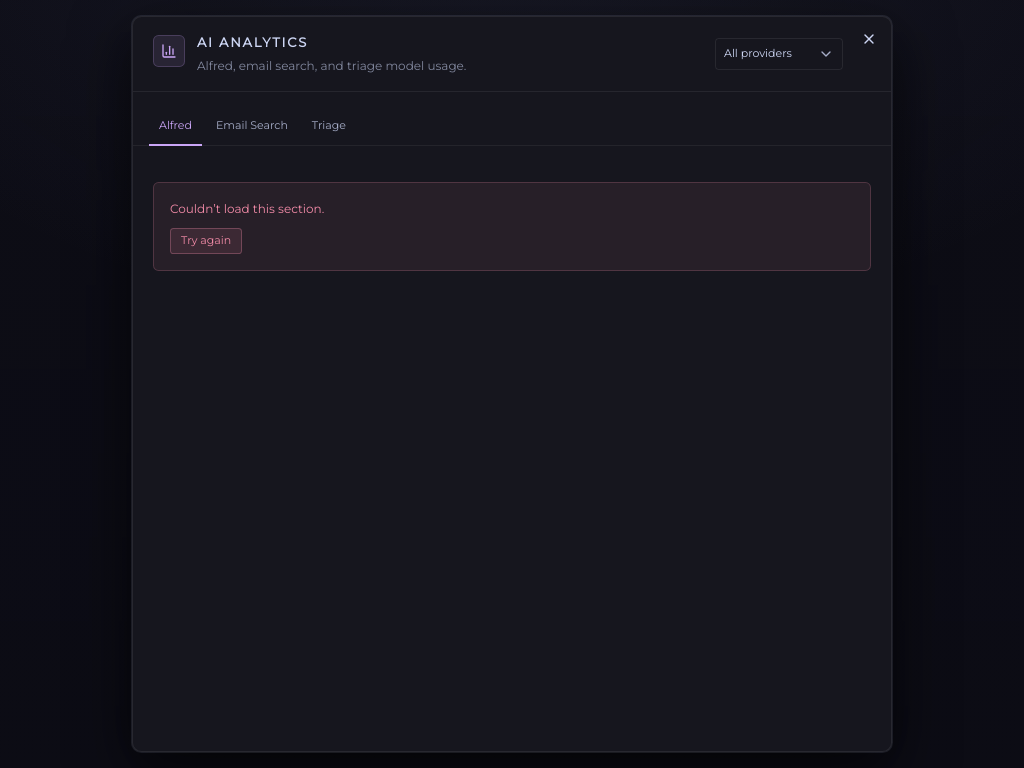
Scenario: recovers the failing section when Try again succeeds
Expected: the text "Couldn’t load this section." is shown, [170,201,324,216]
What coordinates should you click on to do the following:
click the button "Try again"
I would click on:
 (206, 241)
Its box is [170,228,242,254].
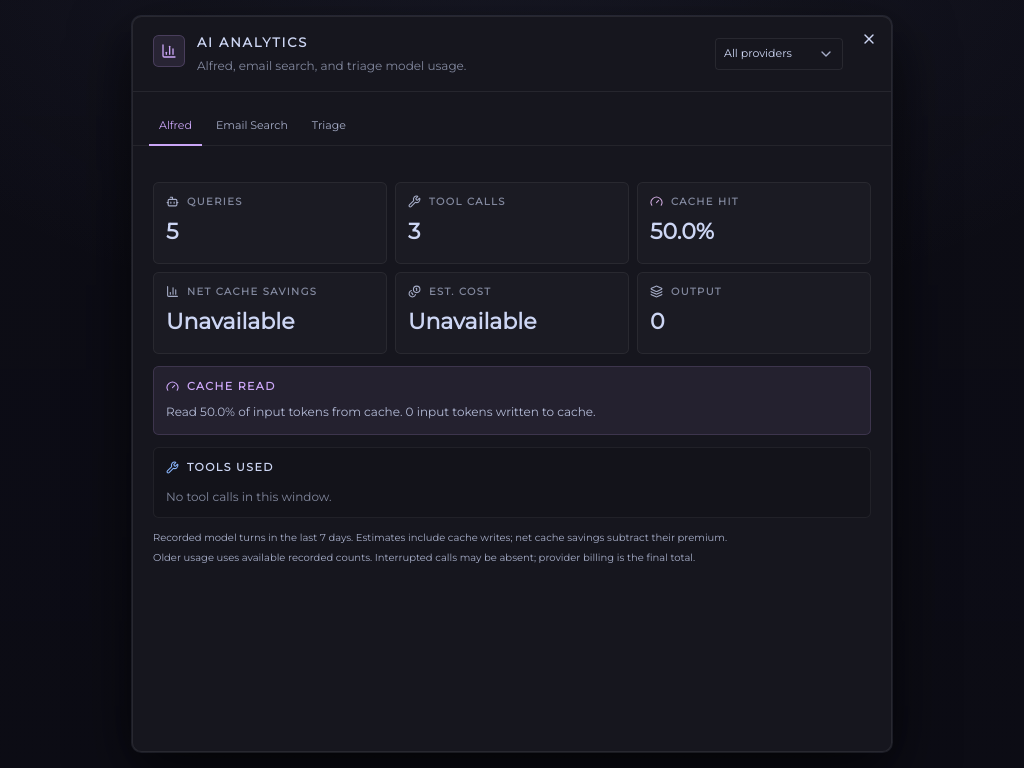
Now the text "Queries" is shown, box [166,195,243,208]
Now the text "5" is shown, box [166,218,178,245]
Now the text "couldn.t load" is gone
